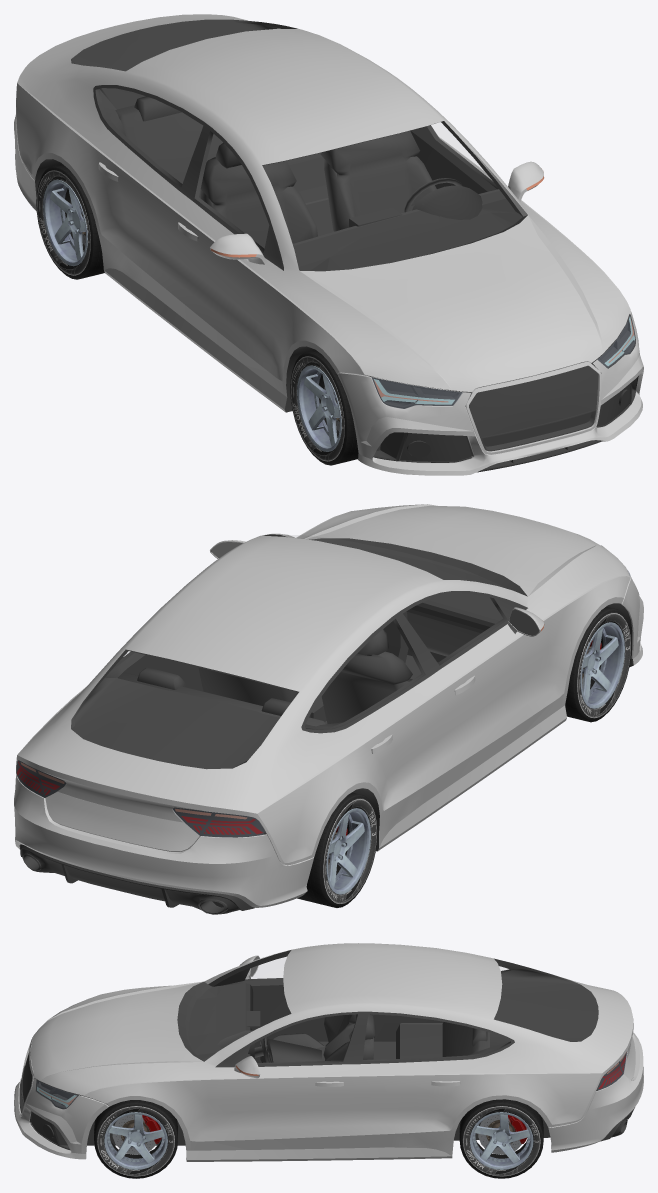
Rendered from Audi A7.fbx.
3 views of the same model, one above another, from view 1: azimuth 30°, elevation 25°; view 2: azimuth 150°, elevation 25°; view 3: azimuth 270°, elevation 25° (orthographic). The views are drawn at different scales.
Parts seen in each view (by area): view 1: body_geo, wheel_FR, wheel_BR; view 2: body_geo, wheel_BR, wheel_FR; view 3: body_geo, wheel_BL, wheel_FL.
Boxes of the visible parts, left/top/right/bottom form: body_geo: left=14, top=14, right=643, bottom=475; wheel_FR: left=290, top=350, right=358, bottom=465; wheel_BR: left=36, top=164, right=104, bottom=279; body_geo: left=14, top=504, right=643, bottom=914; wheel_BR: left=297, top=792, right=377, bottom=907; wheel_FR: left=565, top=606, right=631, bottom=722; body_geo: left=14, top=943, right=643, bottom=1161; wheel_BL: left=459, top=1099, right=543, bottom=1178; wheel_FL: left=94, top=1100, right=177, bottom=1178.
Size of the model in its own units: 216 by 138 by 496.
